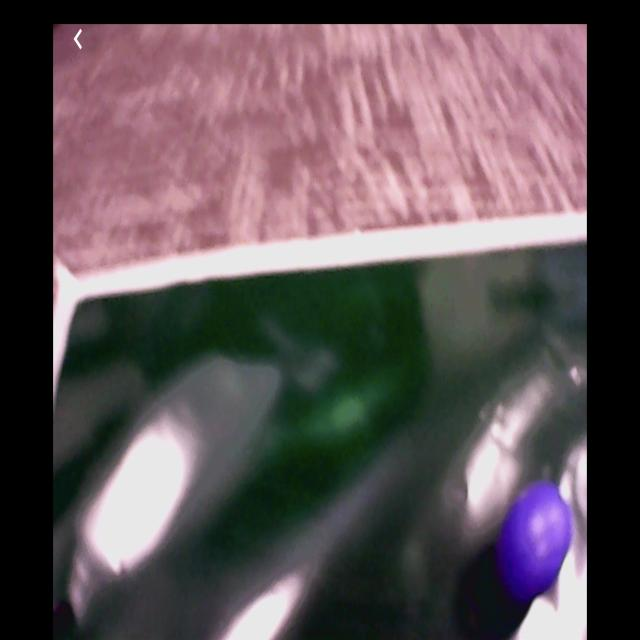ball: (500, 482, 572, 597)
